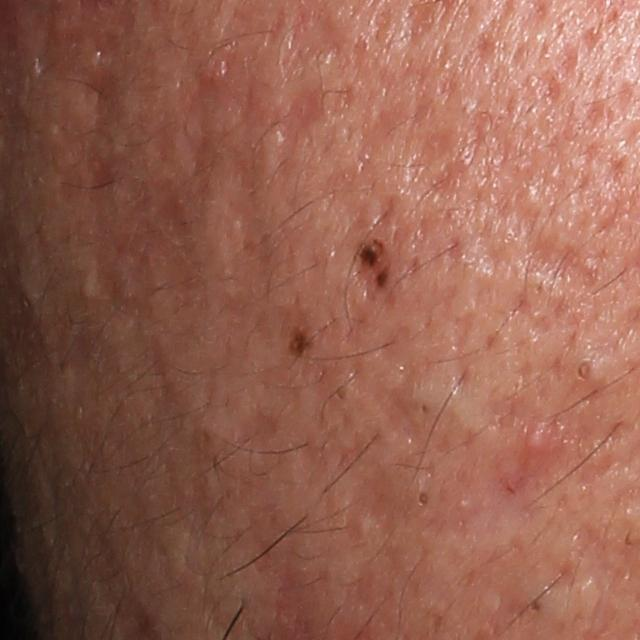atrophic_scar: (209, 145, 293, 314), (342, 324, 442, 450), (176, 68, 258, 182), (513, 235, 607, 324), (423, 107, 490, 205), (339, 451, 399, 550), (270, 78, 325, 176), (72, 59, 139, 139), (472, 287, 554, 340), (402, 128, 461, 182), (446, 311, 481, 400), (459, 20, 496, 94), (467, 228, 519, 278), (232, 410, 283, 452), (355, 106, 402, 151)
comedo: (508, 571, 566, 633), (564, 342, 616, 395), (75, 271, 102, 303), (413, 485, 433, 511)
nevus: (350, 237, 396, 308), (285, 323, 316, 362)
papule: (522, 415, 562, 470)
